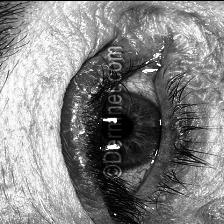Non-Cancerous Skin Condition: (124, 15, 224, 224), (18, 40, 102, 213)
